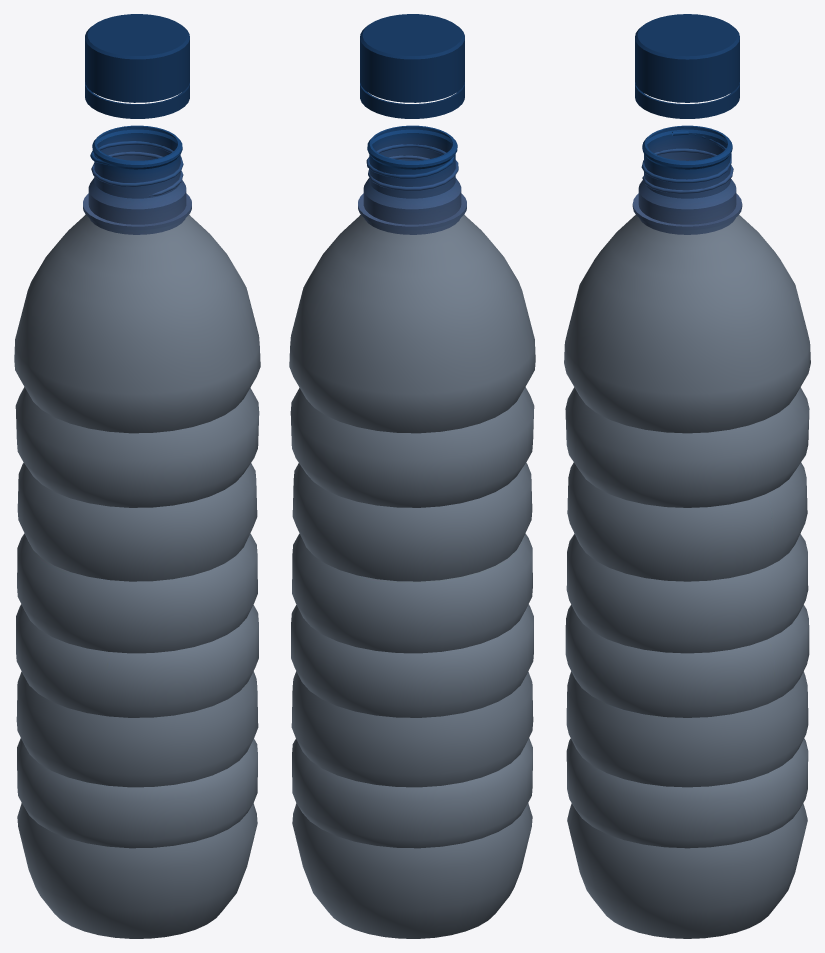
File: mineral_water_drink_plastic_bottle.glb
3 renders of one model, left to right at view 1: azimuth 30°, elevation 25°; view 2: azimuth 150°, elevation 25°; view 3: azimuth 270°, elevation 25°, orthographic.
Visible parts, largest first — view 1: Cylinder.000 (×2); view 2: Cylinder.000 (×2); view 3: Cylinder.000 (×2).
Boxes of the visible parts, box(x1,y1,x2,y2) form: Cylinder.000 (×2): box(14, 14, 260, 938); Cylinder.000 (×2): box(289, 14, 535, 938); Cylinder.000 (×2): box(564, 14, 810, 938).
Size of the model in its own units: 0.5128 by 2 by 0.5128.
2 materials, 2 textured.
